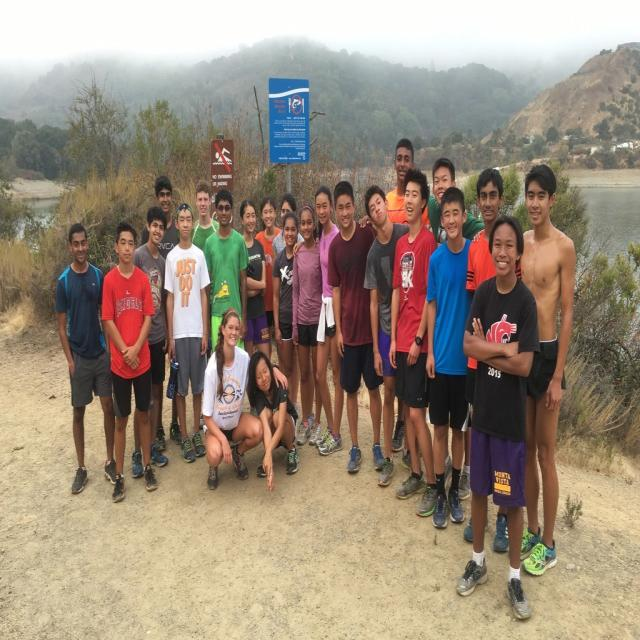body: (452, 210, 540, 624), (516, 162, 580, 577), (358, 137, 433, 453), (462, 165, 522, 553), (422, 180, 482, 533), (426, 156, 486, 502), (386, 164, 442, 520), (52, 220, 122, 497), (326, 179, 386, 476), (99, 218, 160, 505), (198, 305, 290, 492), (362, 184, 411, 490), (292, 184, 344, 457), (160, 200, 212, 466), (140, 173, 184, 454), (130, 205, 170, 479), (201, 187, 251, 356), (290, 203, 324, 450), (271, 191, 307, 416), (246, 348, 301, 495), (270, 209, 302, 440), (238, 198, 272, 364), (254, 193, 285, 365), (190, 179, 220, 250)
